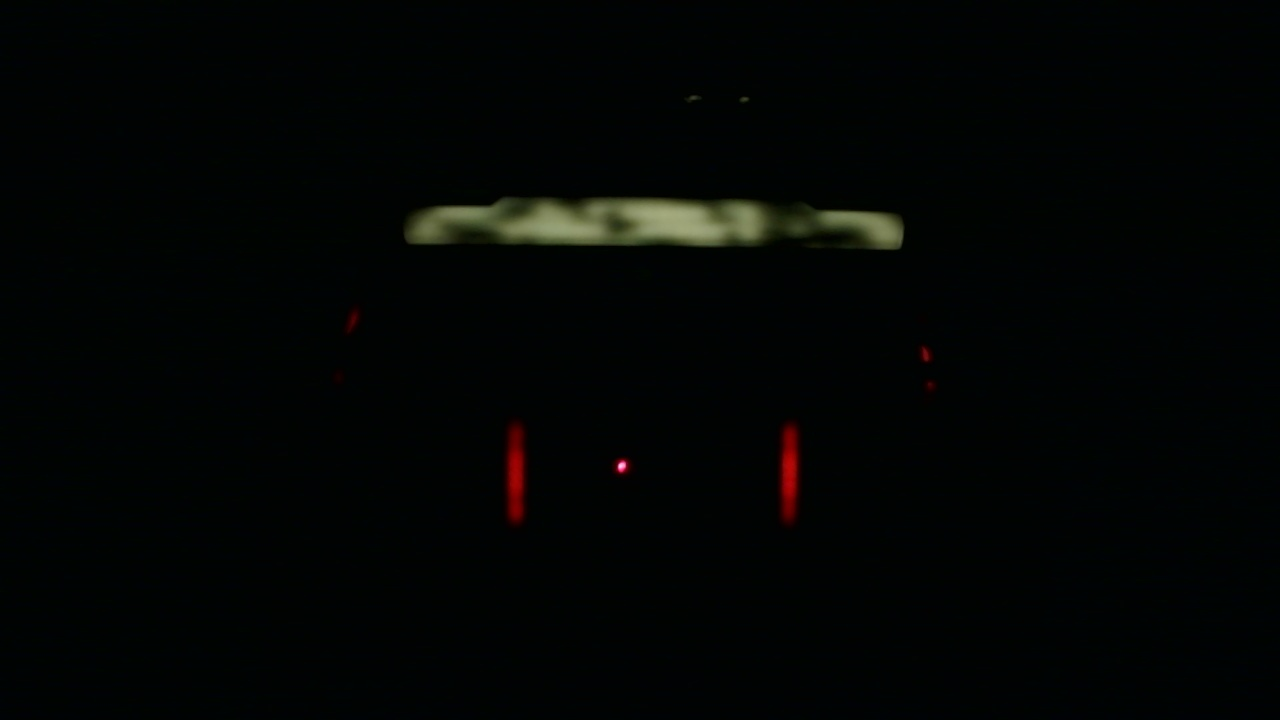lamp: (505, 422, 527, 524), (779, 419, 800, 519)
pair1: (508, 423, 802, 521)
